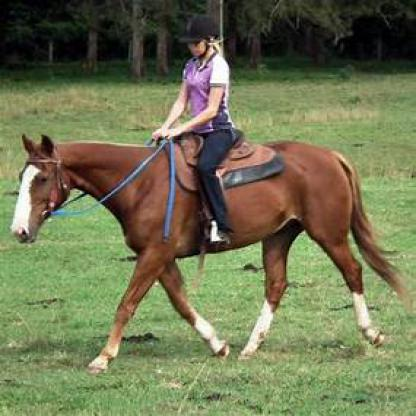horse: (12, 133, 385, 373)
